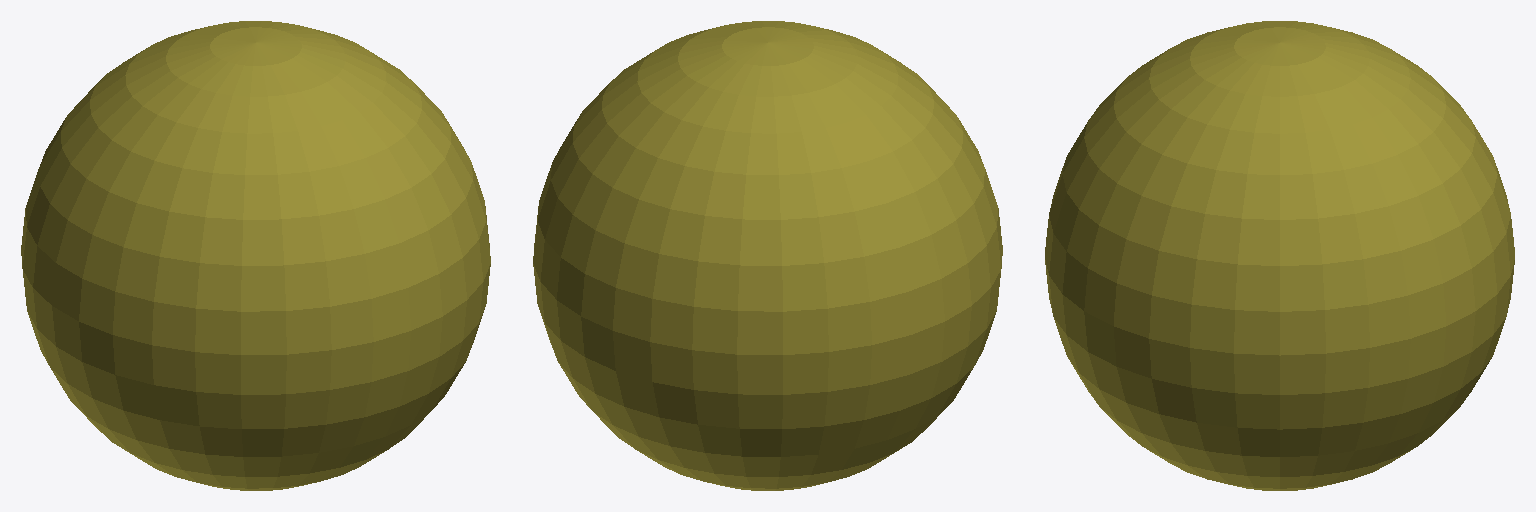
File: food.obj
The picture shows the model from 3 angles: view 1: azimuth 30°, elevation 25°; view 2: azimuth 150°, elevation 25°; view 3: azimuth 270°, elevation 25°; orthographic projection.
Parts seen in each view (by area): view 1: Sphere; view 2: Sphere; view 3: Sphere.
Boxes of the visible parts, x1,y1,x2,y2 form: Sphere: [21, 21, 490, 490]; Sphere: [533, 21, 1002, 490]; Sphere: [1045, 21, 1514, 490].
Bounding box in the file's own units: 2 × 2 × 2.